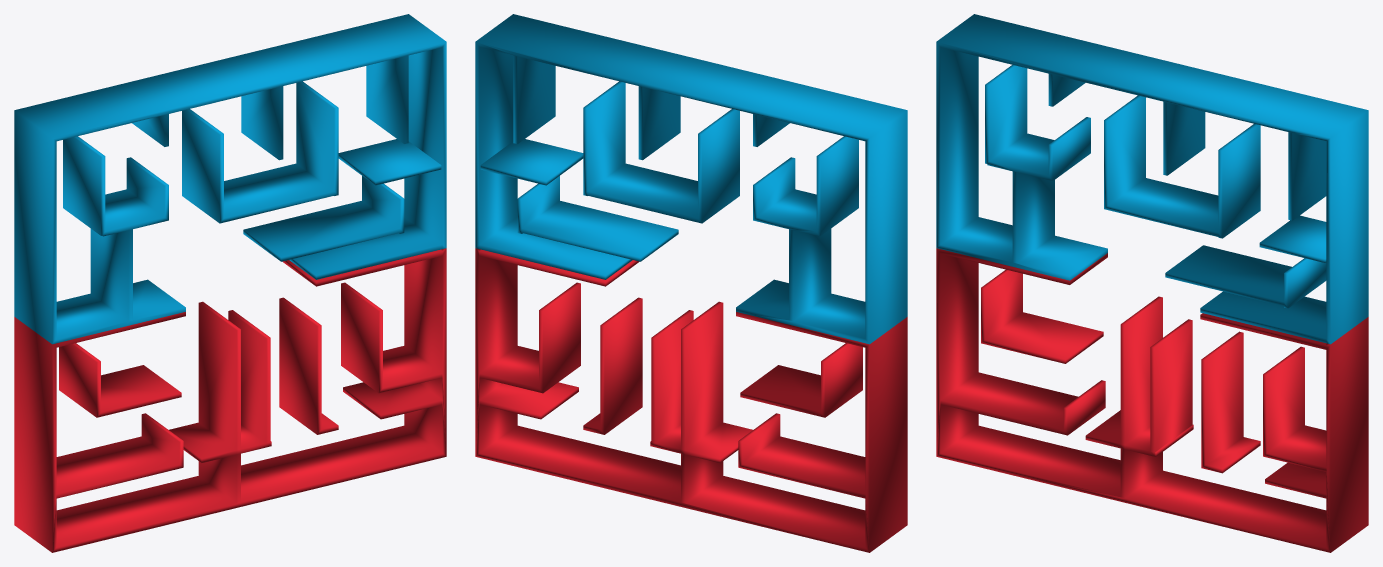
Rendered from map.obj.
The picture shows the model from 3 angles, left to right: view 1: azimuth 30°, elevation 25°; view 2: azimuth 150°, elevation 25°; view 3: azimuth 330°, elevation 25°; orthographic projection.
Visible parts, largest first — view 1: obj_0; view 2: obj_0; view 3: obj_0.
Part boxes in pixels (<box>): obj_0: <box>14,14,446,552</box>; obj_0: <box>475,14,907,552</box>; obj_0: <box>936,14,1368,552</box>.
Size of the model in its own units: 186 by 187 by 31.
